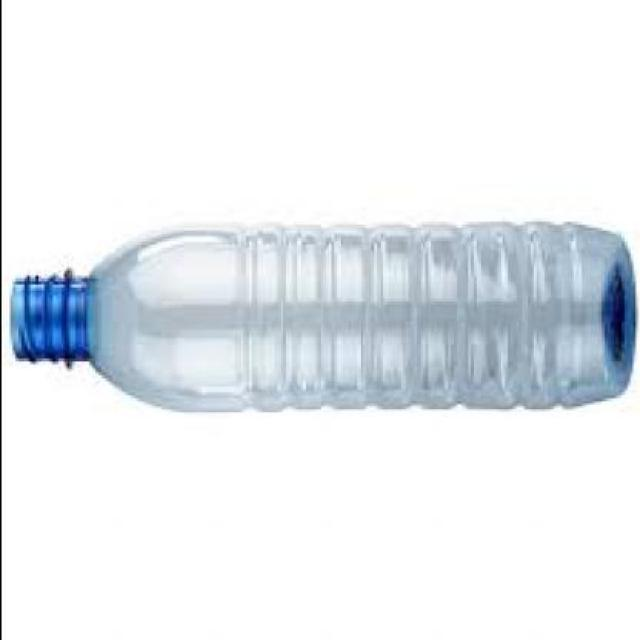PLASTIC: (9, 222, 632, 418)
